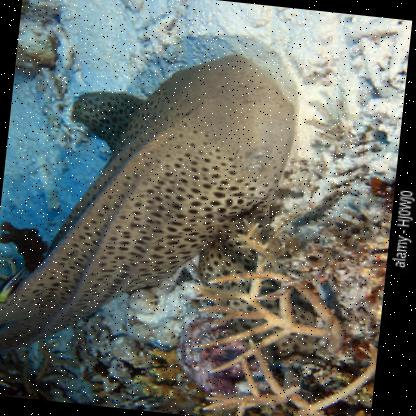zebra_shark: (0, 29, 310, 388)
